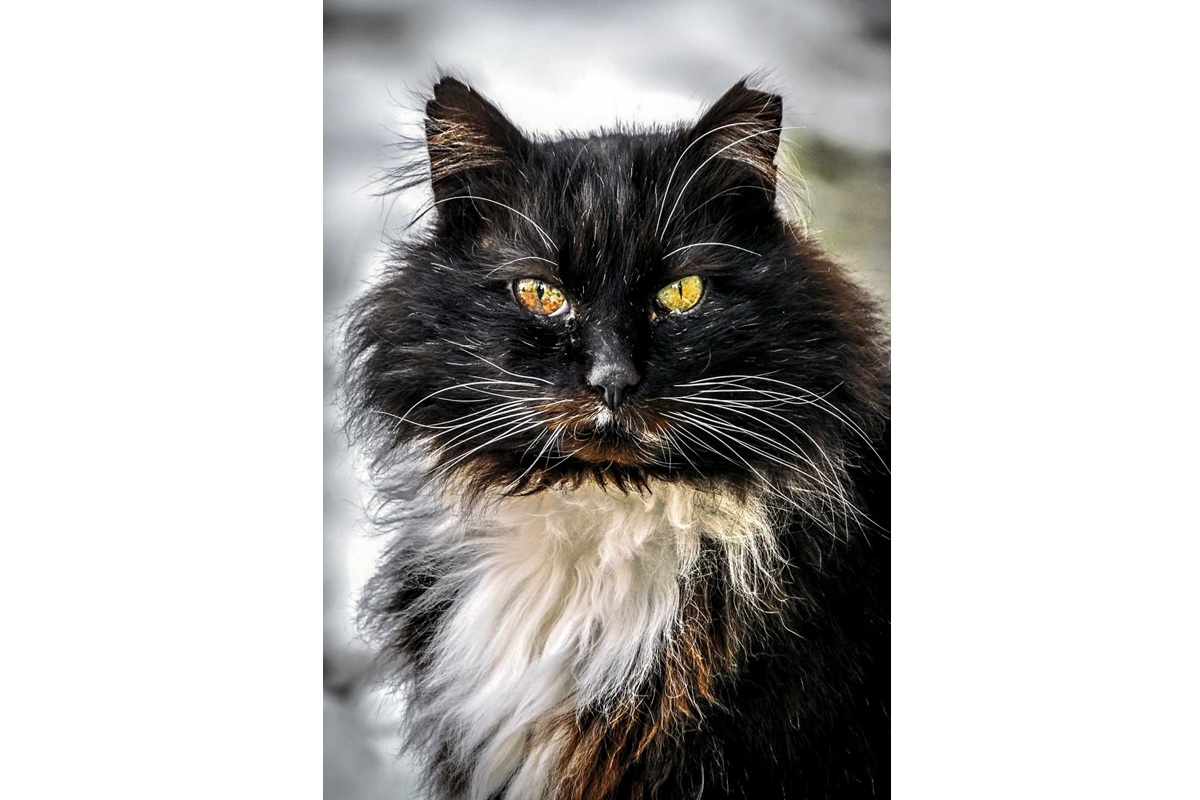cat: (353, 55, 879, 781)
